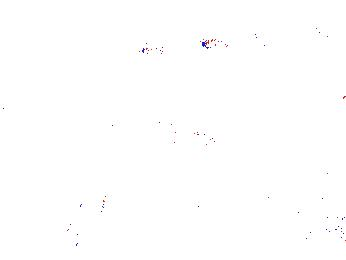X-ray fish: (215, 181, 237, 217)
glassfish: (64, 171, 119, 257), (146, 116, 242, 156)
red belly glassfish: (197, 33, 259, 50), (136, 40, 192, 58), (316, 23, 346, 42)
